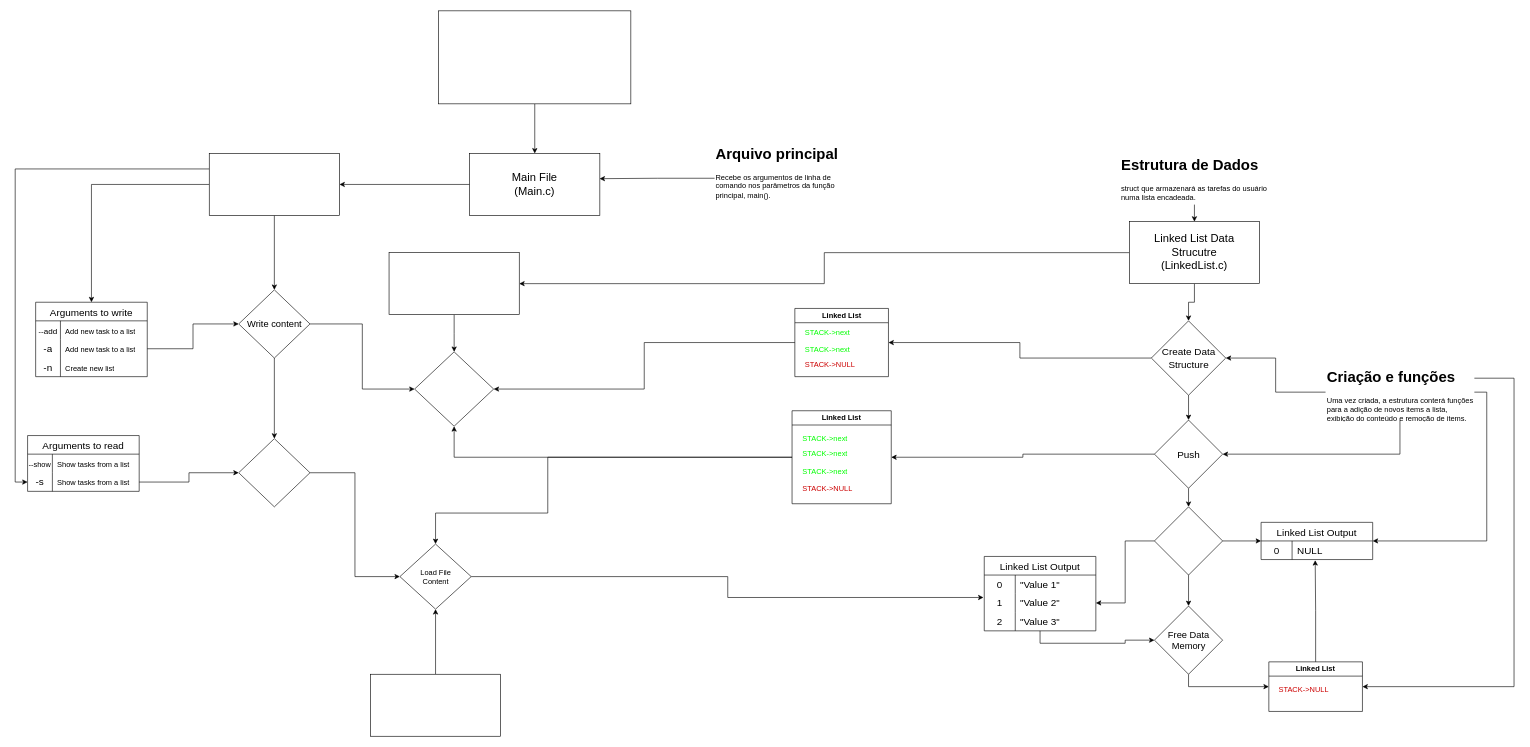
This 1530x747 diagram has some shape labels left out. Here are the shapes that lost their labels. From the top down, the centre of each, then its label:
At (534,57): "Listu, v0.1".
At (274,184): "Handle Arguments (HandleArgs.c)".
At (453,283): "Data Serialization (Serialization.c)".
At (454,388): "Serialize Data Structure to File".
At (274,472): "Read content".
At (1188,540): "Print Data Content".
At (435,705): "Data Deserialization (Serialization.c)".
